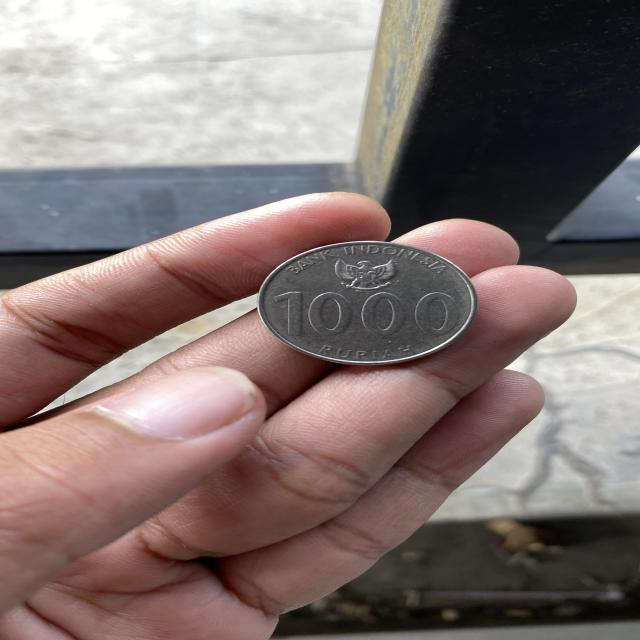1000-angklung: (256, 234, 490, 374)
